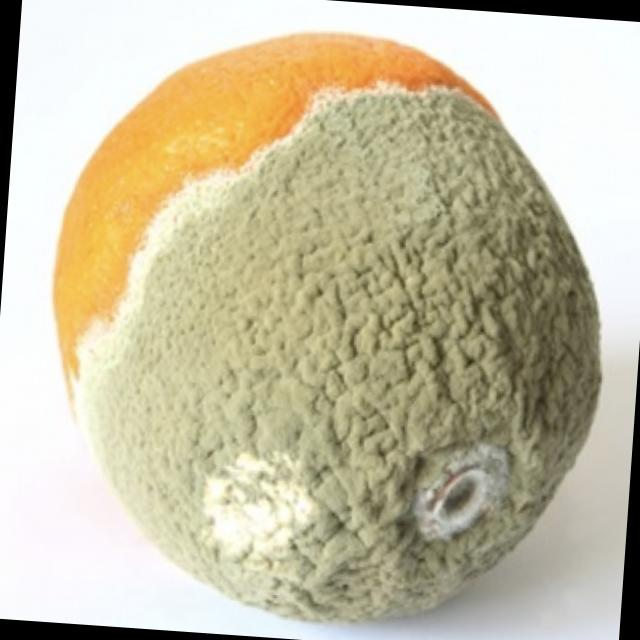rotten-orange: (24, 12, 618, 638)
